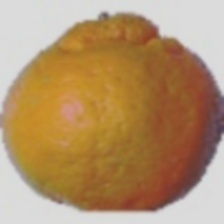tangerine: (24, 36, 205, 224)
